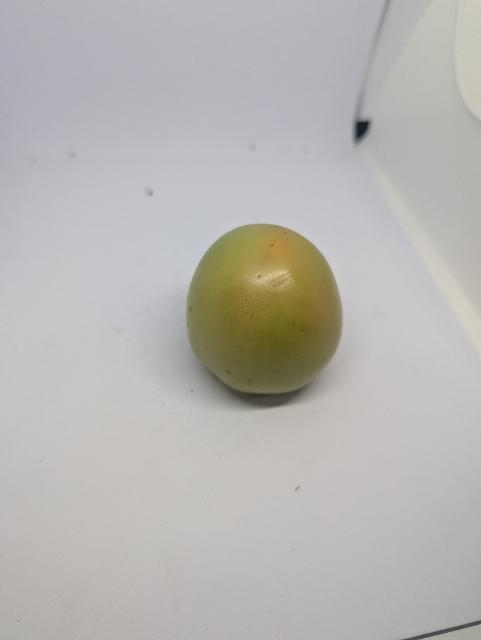breaker: (183, 220, 345, 397)
